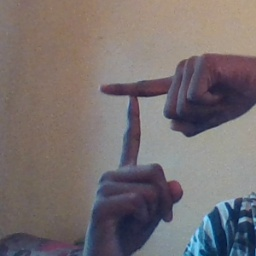T: (86, 62, 190, 184)
